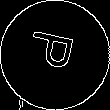P_E: (26, 32, 84, 78)
